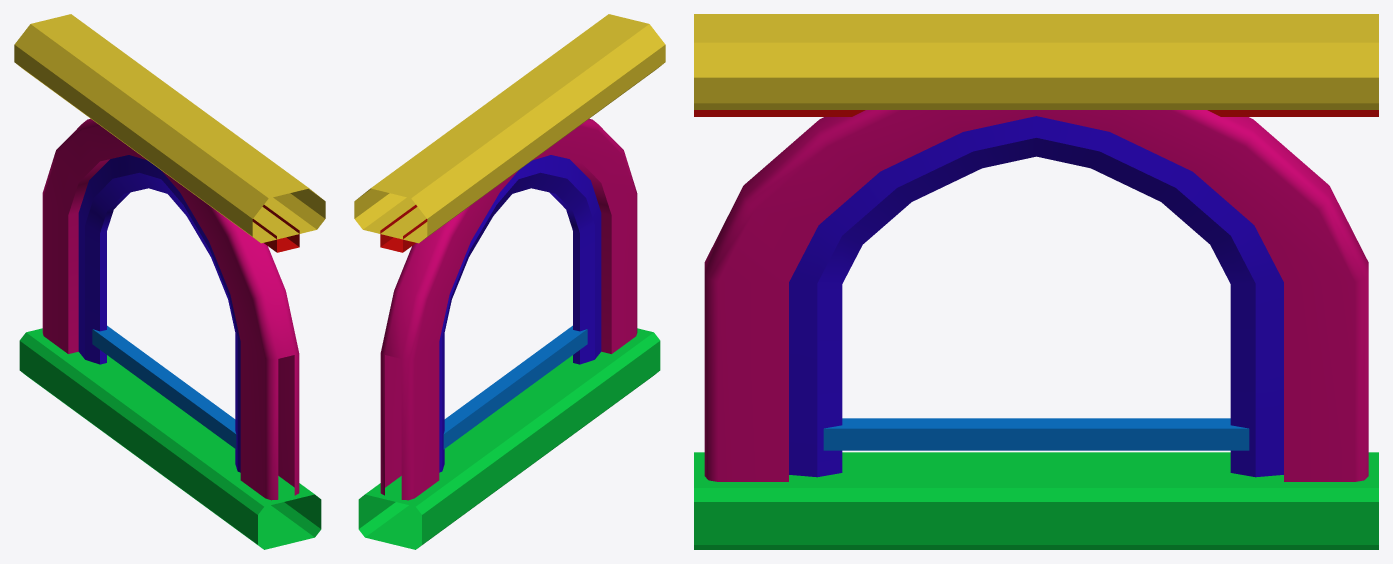
Rendered from SM_BridgeBarrier.fbx.
3 views of the same model, side by side, from view 1: azimuth 30°, elevation 25°; view 2: azimuth 150°, elevation 25°; view 3: azimuth 270°, elevation 25° (orthographic). The views are drawn at different scales.
Parts seen in each view (by area): view 1: rembarde; view 2: rembarde; view 3: rembarde.
Part boxes in pixels (left/top/right/bottom): rembarde: left=14, top=14, right=325, bottom=549; rembarde: left=354, top=14, right=665, bottom=549; rembarde: left=694, top=14, right=1378, bottom=549.
Bounding box in the file's own units: 17.61 × 81.14 × 100.
